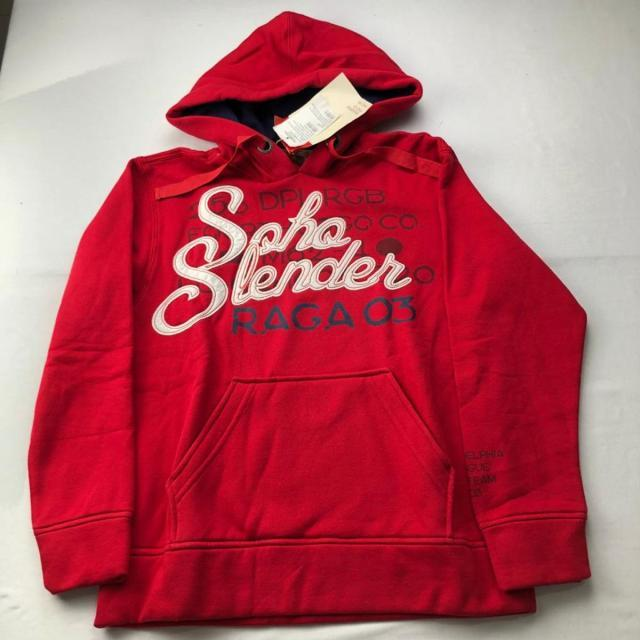sweater: (24, 8, 596, 632)
